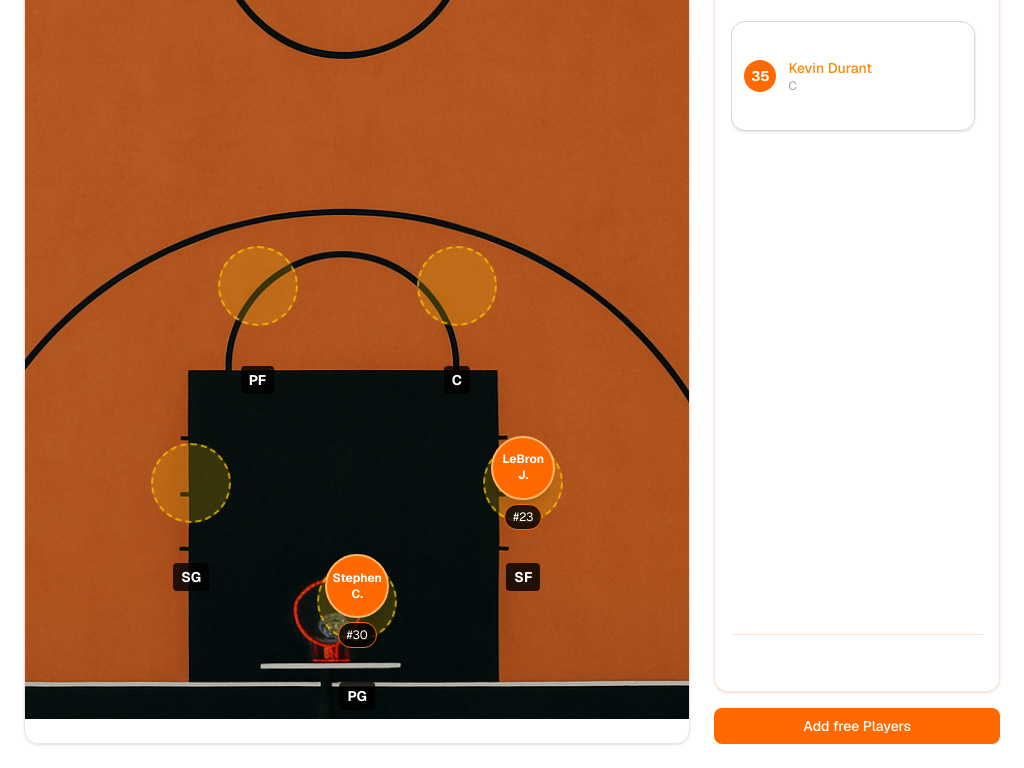
Test case: TeamManagement › Unassigned Players Dialog › should show empty message when no unassigned players
(page scrolled)
Click the button "Add free Players": (857,726) left=714, top=708, right=1000, bottom=744
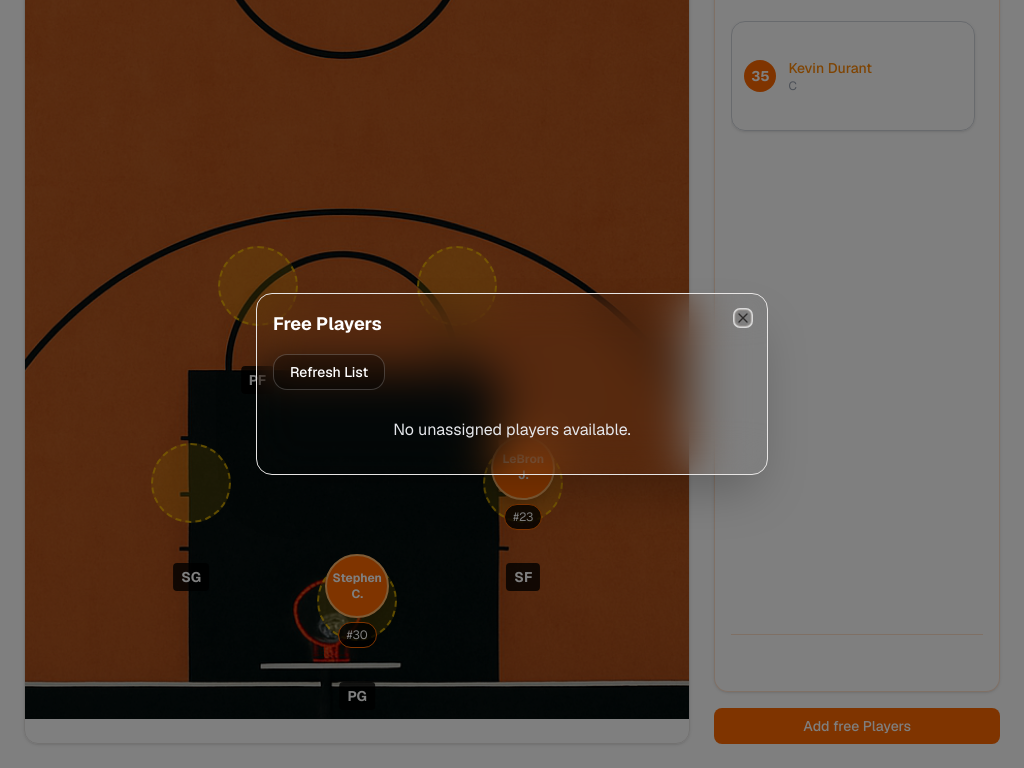
Now the text "No unassigned players available." is shown, box left=393, top=419, right=631, bottom=440
